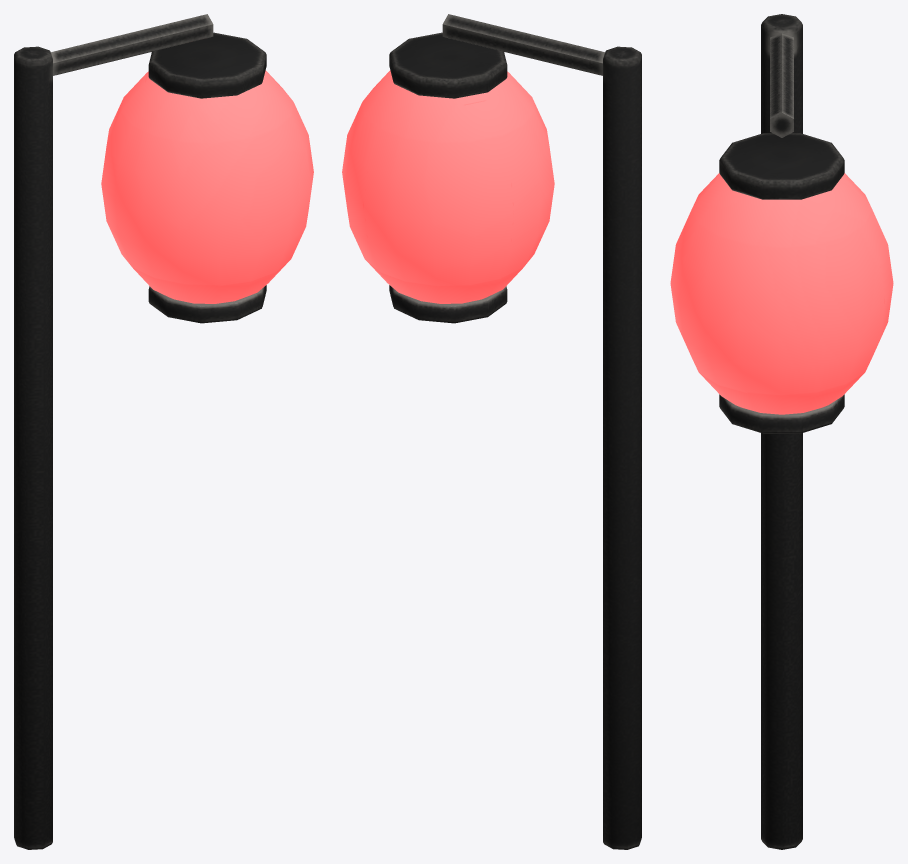
File: cb_paper_lantern.glb
3 renders of one model, left to right at view 1: azimuth 30°, elevation 25°; view 2: azimuth 150°, elevation 25°; view 3: azimuth 270°, elevation 25°, orthographic. The views are drawn at different scales.
Visible parts, largest first — view 1: cb_paper_lantern; view 2: cb_paper_lantern; view 3: cb_paper_lantern.
Part boxes in pixels (box(x1,y1,x2,y2)): cb_paper_lantern: box(14, 14, 313, 849); cb_paper_lantern: box(342, 14, 641, 849); cb_paper_lantern: box(670, 14, 893, 849).
Size of the model in its own units: 0.98 by 2.6 by 0.64.
Materials: 2 (2 with a texture image).
